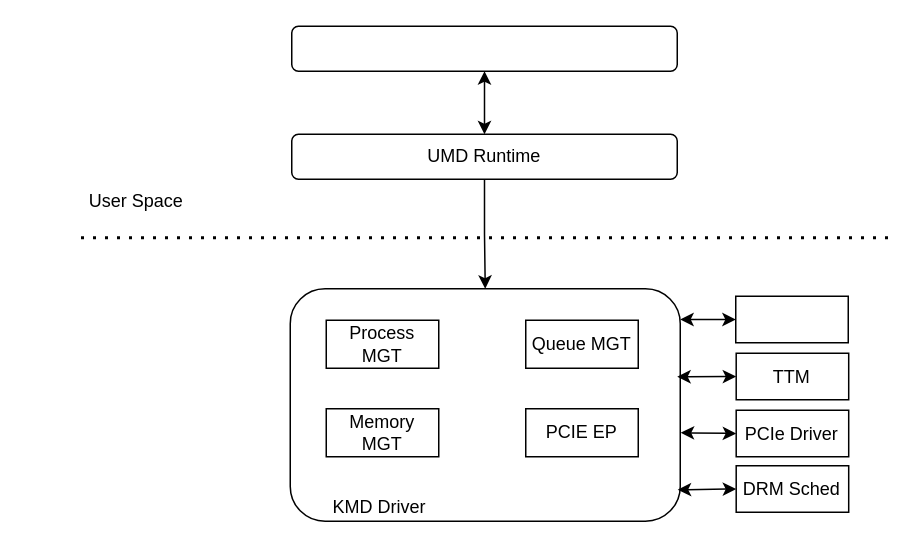
Some shapes in this 917 by 548 pixel diagram are drawn without their labels. Here are the shapes that lost their labels. From the top down, the centre of each, then its label:
At (483,48): "Application".
At (791,319): "DRM".
